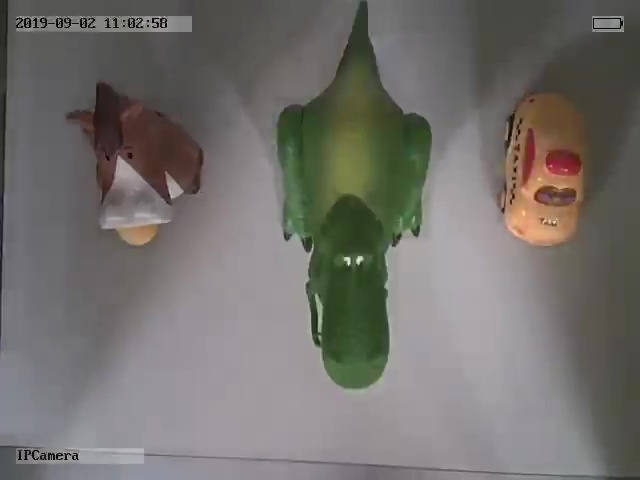car: (498, 89, 590, 247)
horse: (65, 81, 206, 246)
rex: (273, 2, 432, 390)
